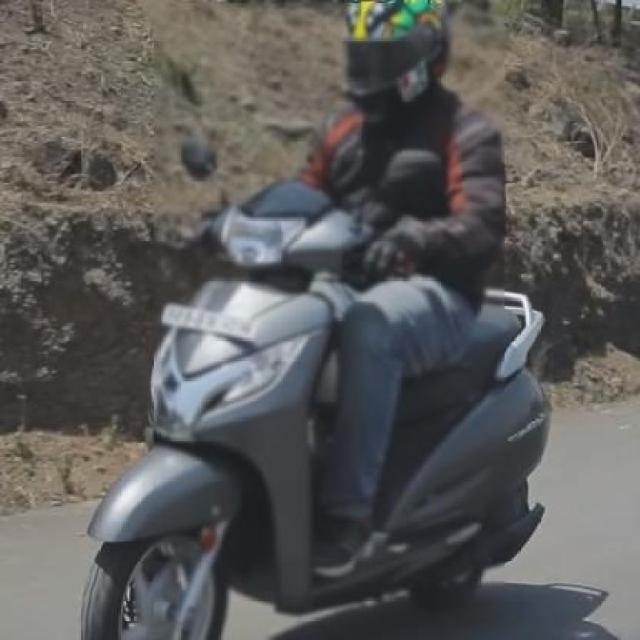helmet: (330, 6, 460, 117)
motorcycle: (73, 3, 561, 640)
